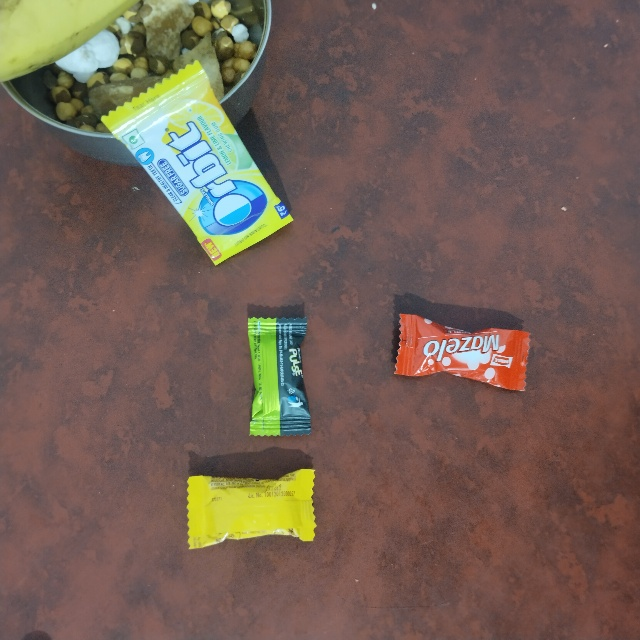Alpenlibe Creamfills: (183, 469, 320, 551)
Mazelo: (400, 309, 539, 379)
Orbit: (192, 56, 381, 167)
Pulse: (245, 316, 317, 438)
